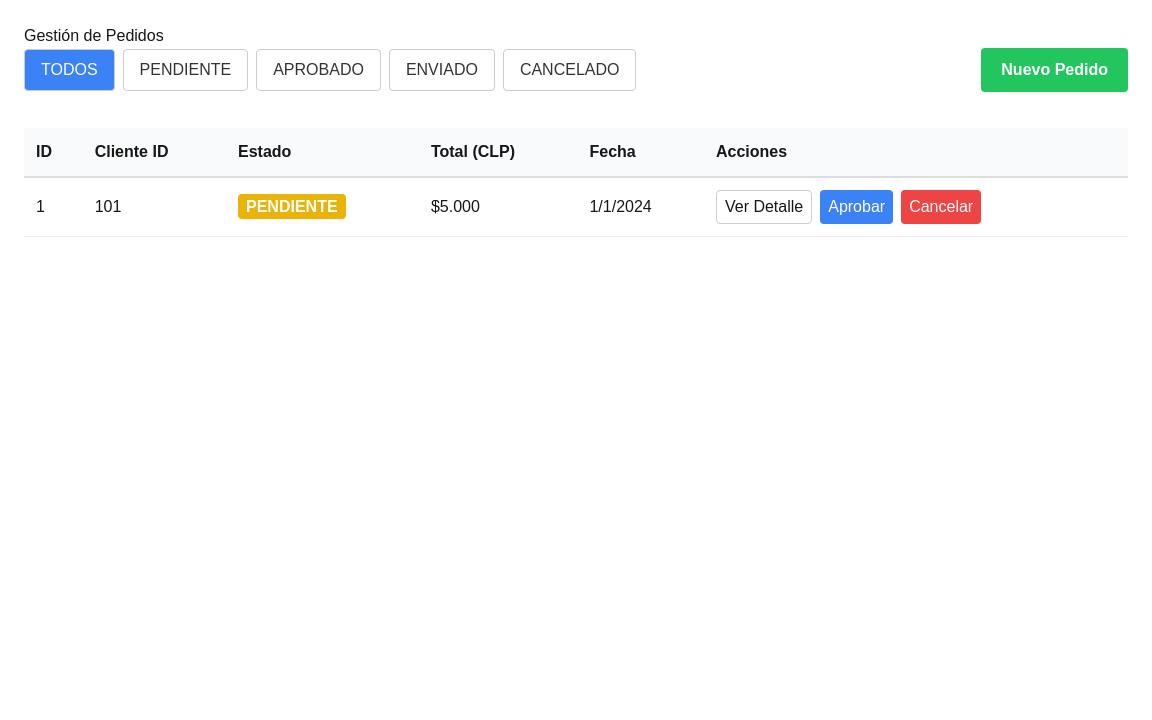
Test: Nuevo Pedido sin productos disponibles muestra aviso
This screenshot has width=1152, height=720.
Click the button "Nuevo Pedido".
click(1055, 70)  # box [981,48,1128,92]
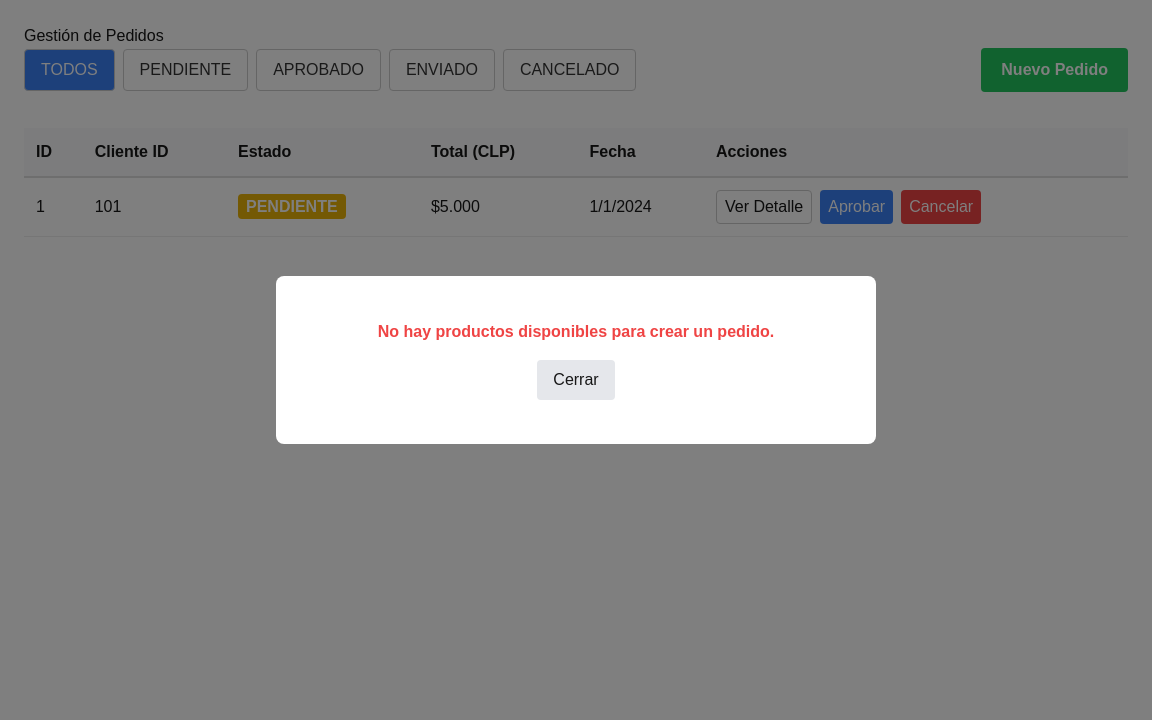
expect the text "No hay productos disponibles para crear un pedido." is shown: met, box [378,323,774,340]
